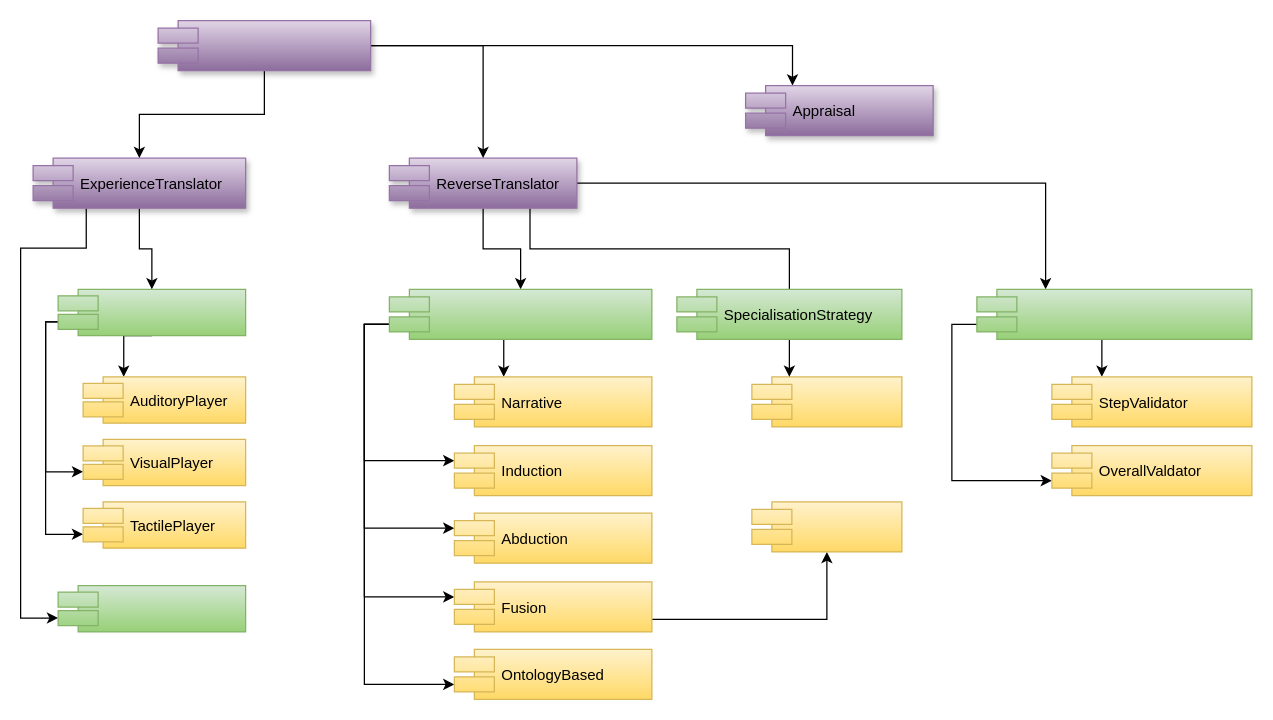
The diagram is 1273 pixels wide and 720 high, and some of its shapes have lost their labels. Each missing label, with the centre of its shape:
"Deduction" goes at (826,401).
"Dictionary" goes at (826,526).
"ExperiencePlayer" goes at (151,312).
"GeneralisationStrategy" goes at (520,313).
"SemanticTagger" goes at (151,608).
"SleepingBrainLifeCycle" goes at (265,46).
"Validator" goes at (1114,313).
